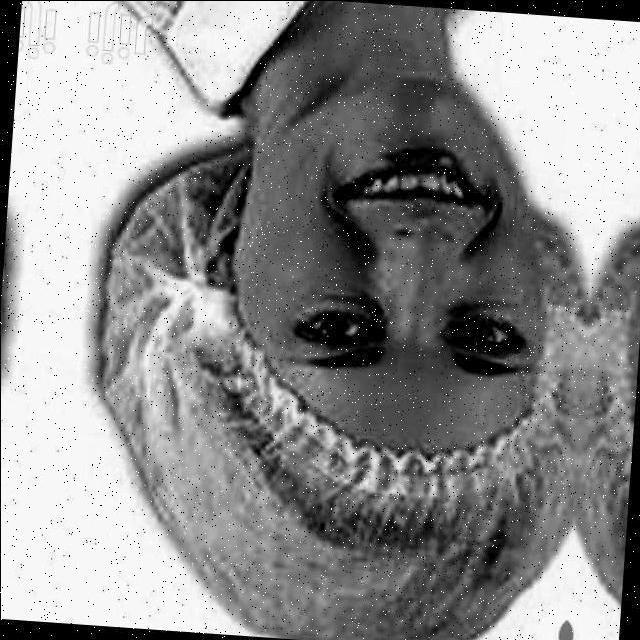gloves: (147, 402, 541, 638)
no_hairnet: (296, 106, 522, 274)
